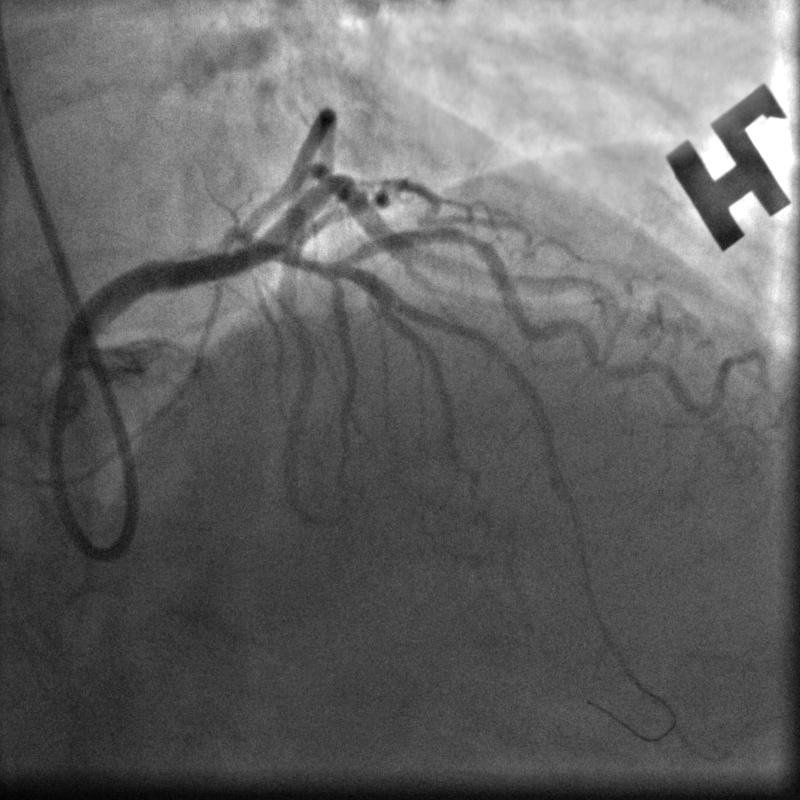Stenosis: (453, 219, 497, 263)
